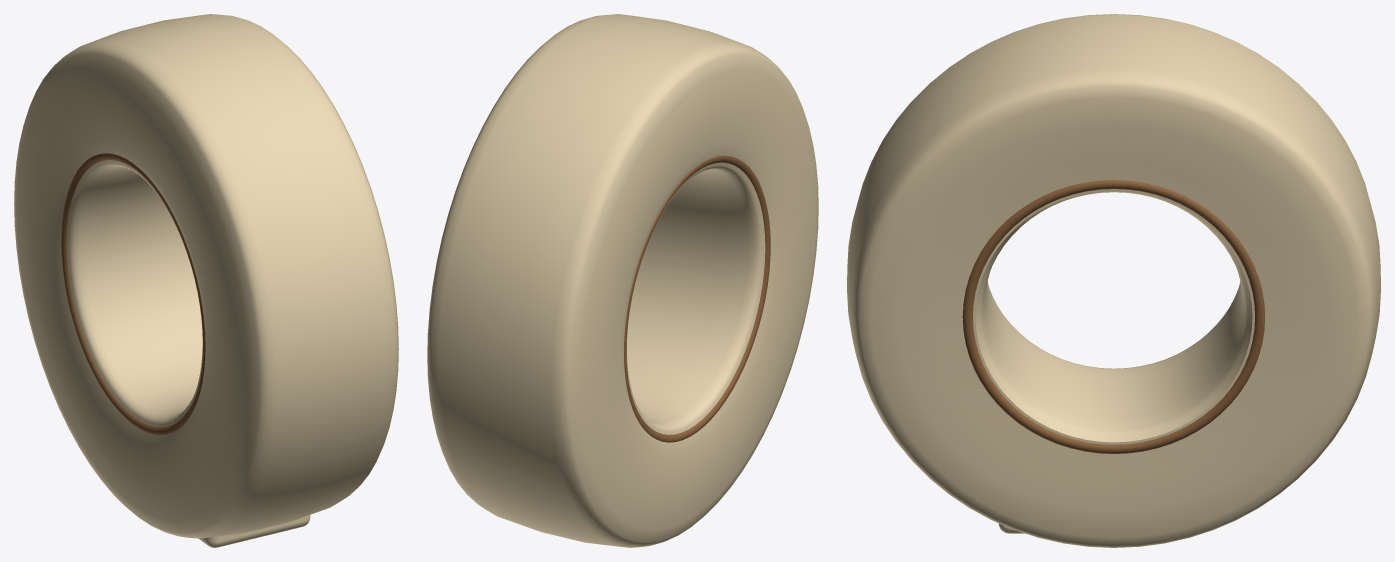
File: tape.glb
The picture shows the model from 3 angles, left to right: view 1: azimuth 30°, elevation 25°; view 2: azimuth 150°, elevation 25°; view 3: azimuth 270°, elevation 25°; orthographic projection. The views are drawn at different scales.
Visible parts, largest first — view 1: cream, edge; view 2: cream, edge; view 3: cream, edge.
Boxes of the visible parts, left/top/right/bottom form: cream: left=14, top=14, right=398, bottom=547; edge: left=61, top=153, right=205, bottom=434; cream: left=427, top=14, right=818, bottom=547; edge: left=624, top=155, right=770, bottom=442; cream: left=847, top=14, right=1380, bottom=547; edge: left=962, top=180, right=1265, bottom=453.
Bounding box in the file's own units: 0.2336 × 0.6937 × 0.6937.
